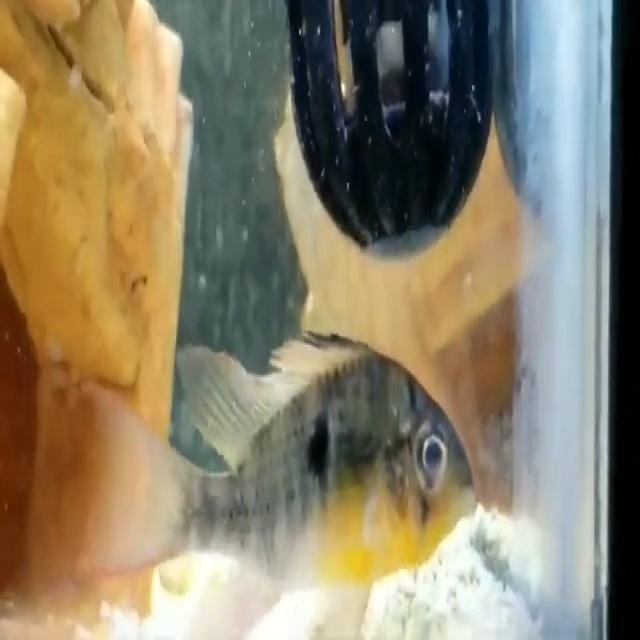fish: (75, 322, 482, 640)
